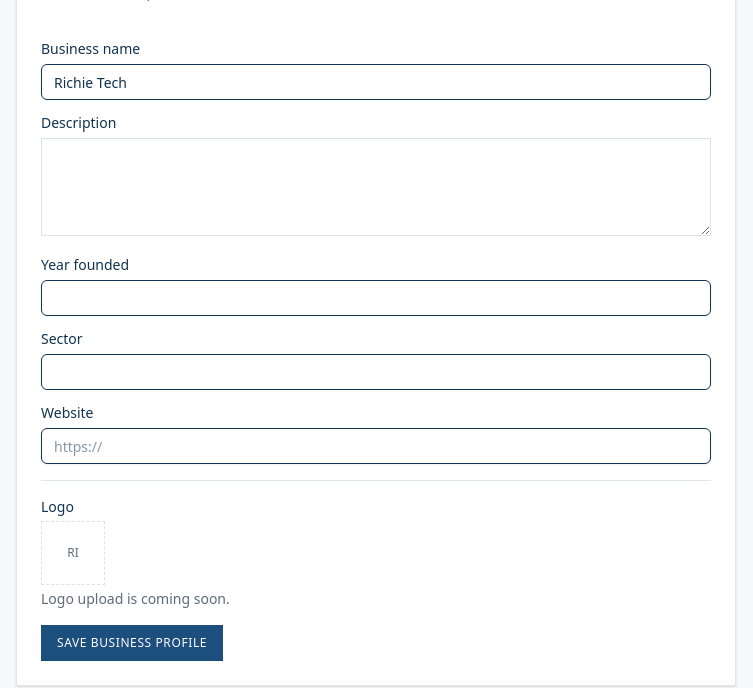
business settings › shows the server's refusal
The width and height of the screenshot is (753, 688).
(page scrolled)
Click the button "Save business profile": click(132, 643) [41,625,223,661]
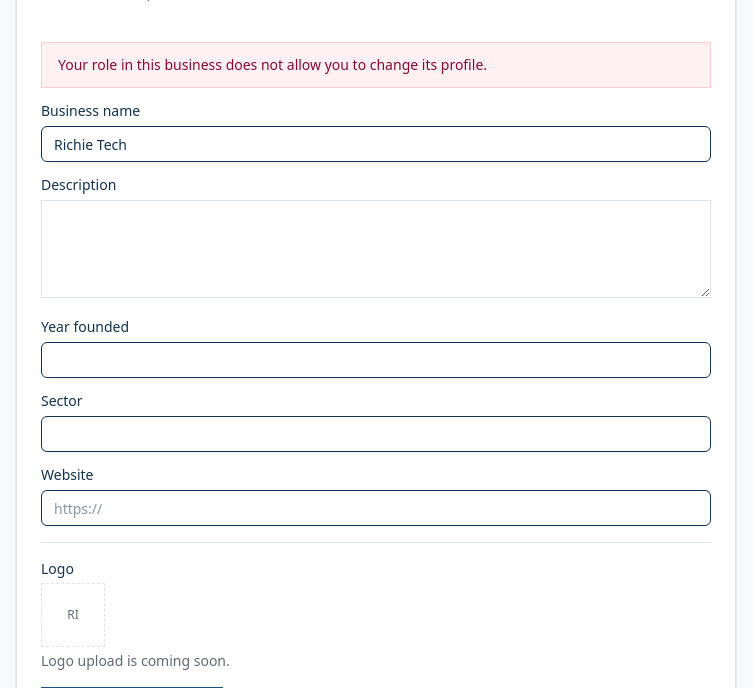
expect the message shows "does not allow": met, box [58,55,487,74]
